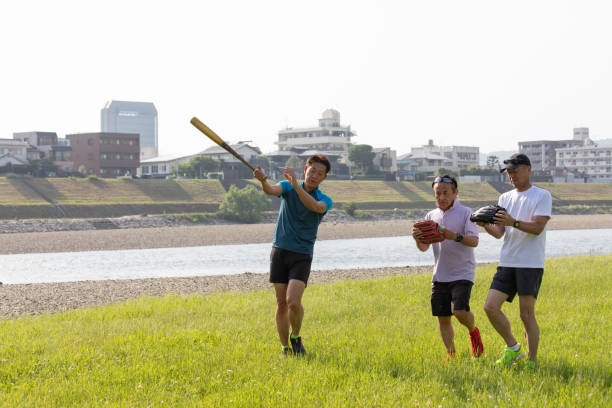bita: (187, 115, 270, 182)
